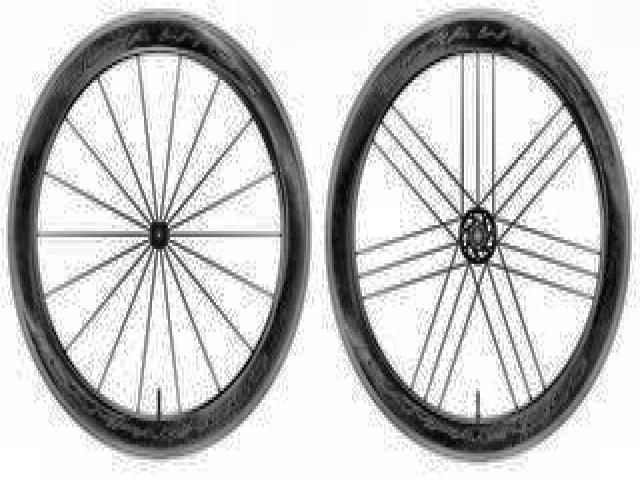wheel: (323, 5, 634, 465), (8, 5, 313, 467)
